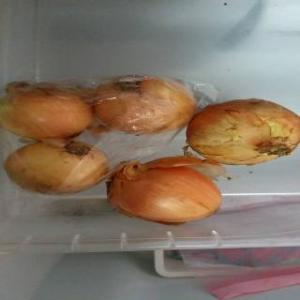onion: (188, 99, 300, 166), (111, 158, 221, 225), (94, 74, 192, 134), (2, 80, 96, 140), (5, 139, 105, 195)
